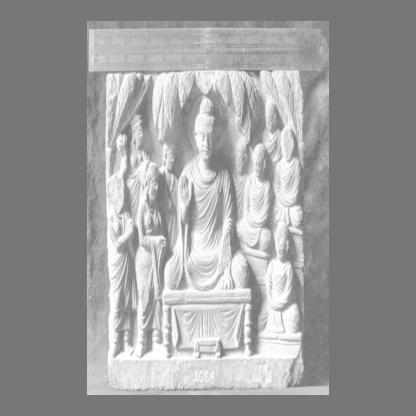buddha-sitting: (162, 97, 250, 358)
